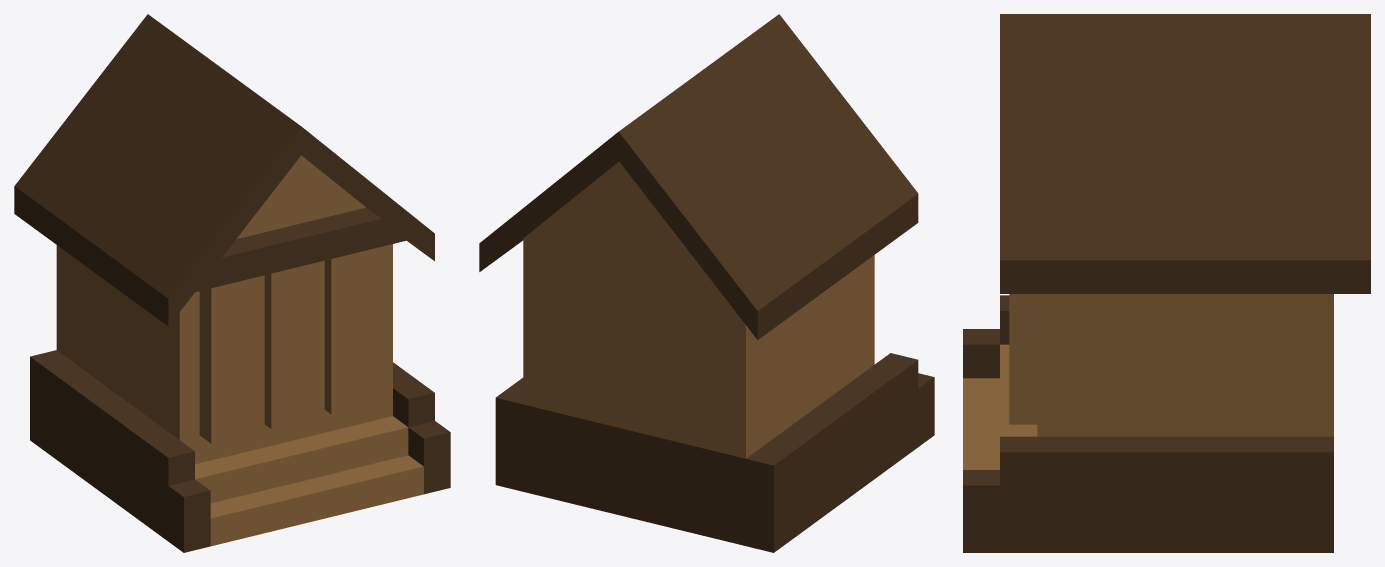
The model's file is Galinheiro.fbx.
The picture shows the model from 3 angles, left to right: view 1: azimuth 30°, elevation 25°; view 2: azimuth 150°, elevation 25°; view 3: azimuth 270°, elevation 25°; orthographic projection. The views are drawn at different scales.
Parts seen in each view (by area): view 1: Galinheiro; view 2: Galinheiro; view 3: Galinheiro.
Part boxes in pixels (bbox=[...]): Galinheiro: bbox=[14, 14, 450, 552]; Galinheiro: bbox=[479, 14, 934, 552]; Galinheiro: bbox=[963, 14, 1370, 552].
Size of the model in its own units: 200 by 274 by 220.
